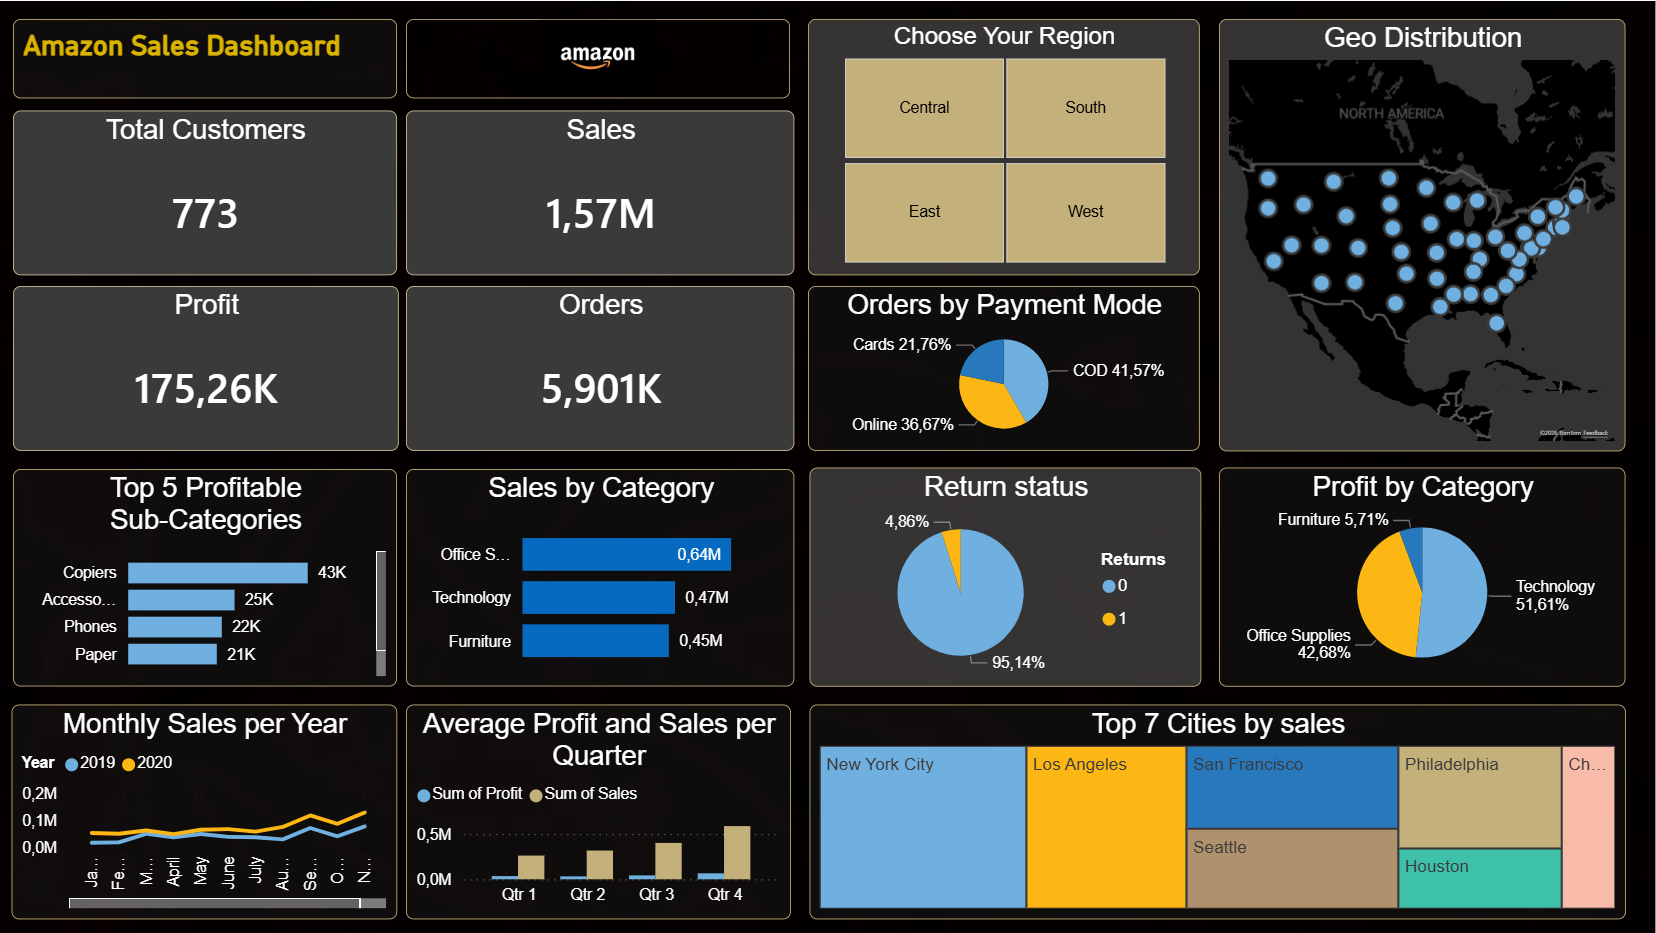

Layout of this report page (visuals, bound fields, positions):
{"tool":"powerbi","page":{"name":"Page 2","canvas":[1280,720],"ordinal":1},"visuals":[{"type":"textbox","box":[11.6,13.9,296.6,61.4],"z":0},{"type":"image","box":[315.2,13.9,296.6,61.4],"z":1000},{"type":"azureMap","title":"Geo Distribution","fields":{"Category":["Sheet1.State"]},"box":[943.2,13.9,314,333.7],"z":2000},{"type":"slicer","title":"Choose Your Region","fields":{"Values":["Sheet1.Region"]},"box":[625.7,13.9,302.4,198.1],"z":3000},{"type":"pieChart","title":" Return status","fields":{"Category":["Sheet1.Returns"],"Y":["Sheet1.Order ID"]},"box":[626.9,360.4,302.4,169.2],"z":4000},{"type":"clusteredBarChart","title":"Top 5 Profitable Sub-Categories","fields":{"Category":["Sheet1.Sub-Category"],"Y":["Sheet1.Profit"]},"box":[11.6,361.5,296.6,168],"z":5000},{"type":"clusteredBarChart","title":"Sales by Category","fields":{"Category":["Sheet1.Category"],"Y":["Sheet1.Sales"]},"box":[315.2,361.5,300.1,168],"z":6000},{"type":"pieChart","title":"Profit by Category","fields":{"Category":["Sheet1.Category"],"Y":["Sheet1.Profit"]},"box":[943.2,360.4,314,169.2],"z":7000},{"type":"pieChart","title":"Orders by Payment Mode","fields":{"Category":["Sheet1.Payment Mode"],"Y":["Sheet1.Order ID"]},"box":[625.7,220.2,302.4,127.5],"z":8000},{"type":"lineChart","title":"Monthly Sales per Year","fields":{"Y":["Sheet1.Sales"],"Category":["Sheet1.Order Date.Variation.Date Hierarchy.Month"],"Series":["Sheet1.Order Date.Variation.Date Hierarchy.Year"]},"box":[10.4,543.4,297.8,165.7],"z":9000},{"type":"clusteredColumnChart","title":"Average Profit and Sales per Quarter","fields":{"Category":["Sheet1.Order Date.Variation.Date Hierarchy.Quarter"],"Y":["Sheet1.Profit","Sheet1.Sales"]},"box":[315,543,297,166],"z":10000},{"type":"treemap","title":"Top 7 Cities by sales","fields":{"Group":["Sheet1.City"],"Values":["Sheet1.Sales"]},"box":[626.9,543.4,630.3,165.7],"z":11000},{"type":"cardVisual","title":"Total Customers ","fields":{"Data":["Sheet1.Customer ID"]},"box":[11.6,84.6,296.6,127.5],"z":12000},{"type":"cardVisual","title":"Sales","fields":{"Data":["Sheet1.Sales"]},"box":[315.2,84.6,300.1,127.5],"z":13000},{"type":"cardVisual","title":"Profit","fields":{"Data":["Sheet1.Profit"]},"box":[11.6,220.2,297.8,127.5],"z":14000},{"type":"cardVisual","title":"Orders","fields":{"Data":["Sheet1.Order ID"]},"box":[315.2,220.2,300.1,127.5],"z":15000}]}

Visuals, with their boxes in screenshot pixels (x1, y1, x2, y2), scaled from the page's 1280x720 canvas onto the 1656x933 screenshot:
textbox: crop(15, 18, 399, 98)
image: crop(408, 18, 792, 98)
"Geo Distribution" azureMap: crop(1220, 18, 1627, 450)
"Choose Your Region" slicer: crop(809, 18, 1201, 275)
" Return status" pieChart: crop(811, 467, 1202, 686)
"Top 5 Profitable Sub-Categories" clusteredBarChart: crop(15, 468, 399, 686)
"Sales by Category" clusteredBarChart: crop(408, 468, 796, 686)
"Profit by Category" pieChart: crop(1220, 467, 1627, 686)
"Orders by Payment Mode" pieChart: crop(809, 285, 1201, 451)
"Monthly Sales per Year" lineChart: crop(13, 704, 399, 919)
"Average Profit and Sales per Quarter" clusteredColumnChart: crop(408, 704, 792, 919)
"Top 7 Cities by sales" treemap: crop(811, 704, 1627, 919)
"Total Customers " cardVisual: crop(15, 110, 399, 275)
"Sales" cardVisual: crop(408, 110, 796, 275)
"Profit" cardVisual: crop(15, 285, 400, 451)
"Orders" cardVisual: crop(408, 285, 796, 451)
